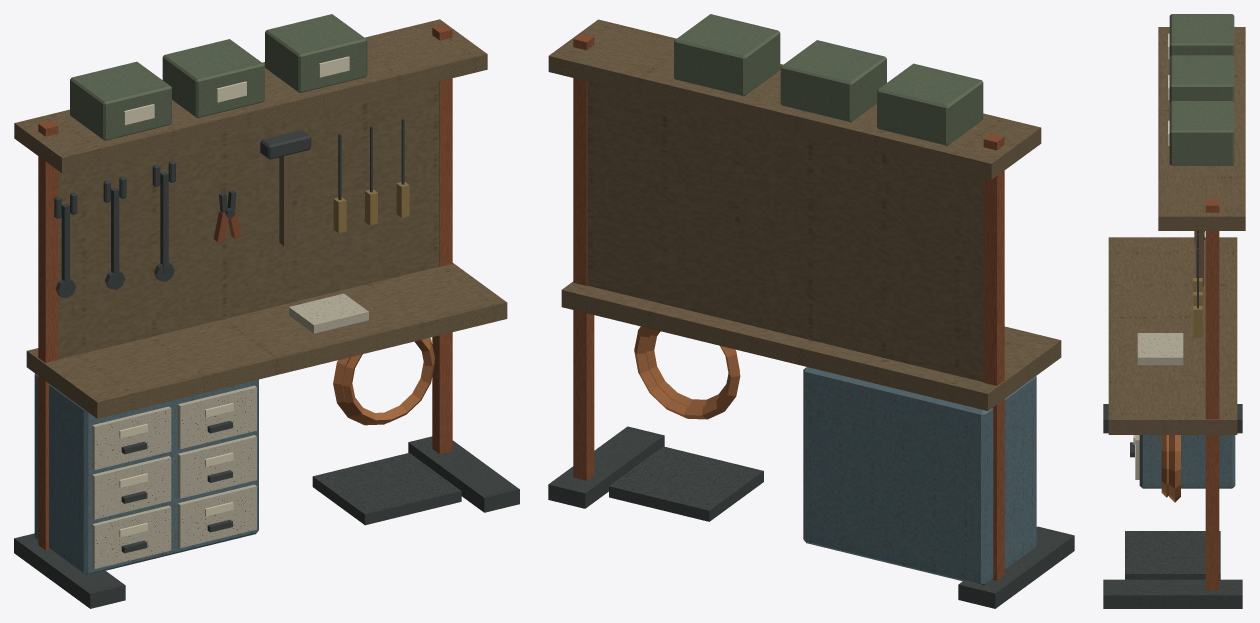
Rendered from CompactWorkshopRack.fbx.
3 renders of one model, left to right at view 1: azimuth 30°, elevation 25°; view 2: azimuth 150°, elevation 25°; view 3: azimuth 270°, elevation 25°, orthographic. The views are drawn at different scales.
Visible parts, largest first — view 1: CompactWorkshopRack; view 2: CompactWorkshopRack; view 3: CompactWorkshopRack.
Part boxes in pixels (x1,y1,x2,y2): CompactWorkshopRack: (14, 14, 519, 608); CompactWorkshopRack: (548, 14, 1074, 608); CompactWorkshopRack: (1103, 14, 1245, 608).
Bounding box in the file's own units: 218 × 227 × 68.5.
Materials: 1 (1 with a texture image).
